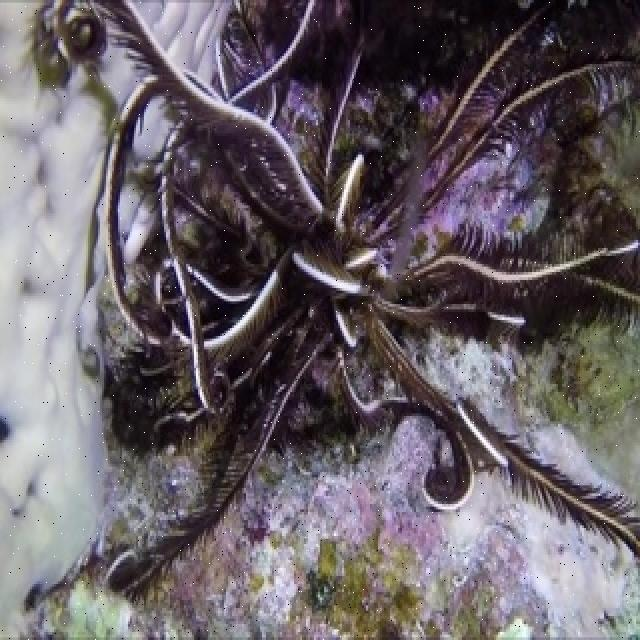reefs: (31, 0, 638, 613)
